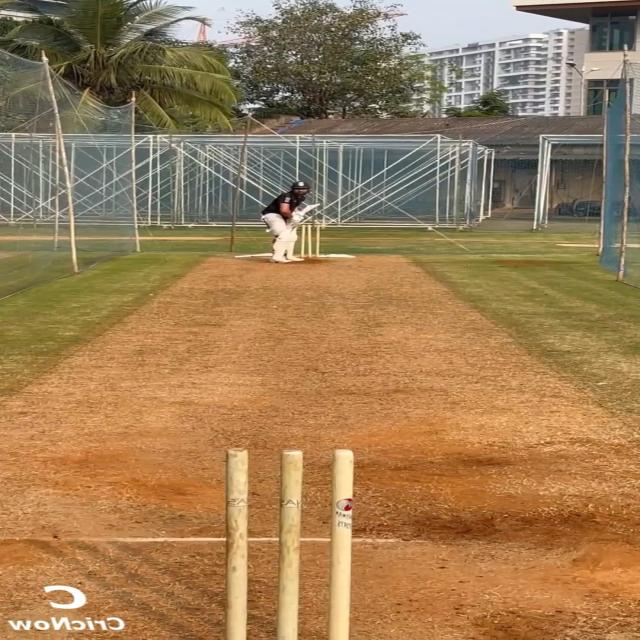stump: (221, 446, 359, 640), (297, 223, 323, 263)
